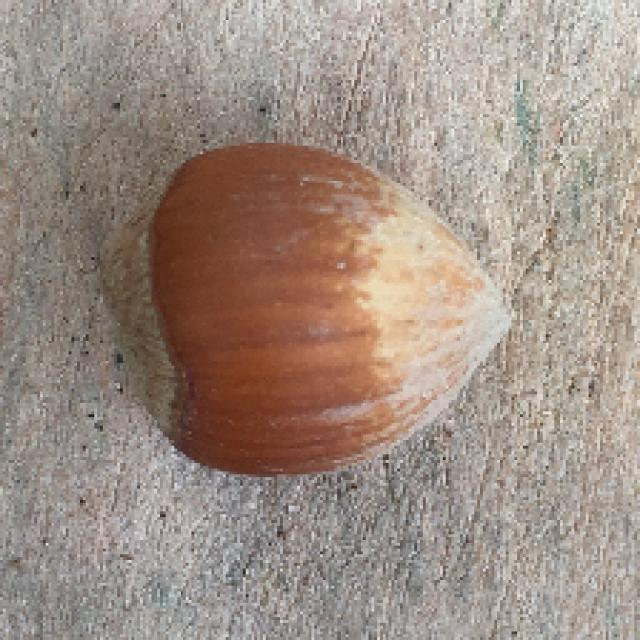qualityHazelnut: (101, 134, 516, 470)
